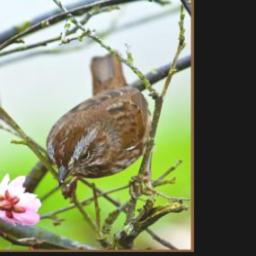Sparrow: (44, 49, 162, 200)
